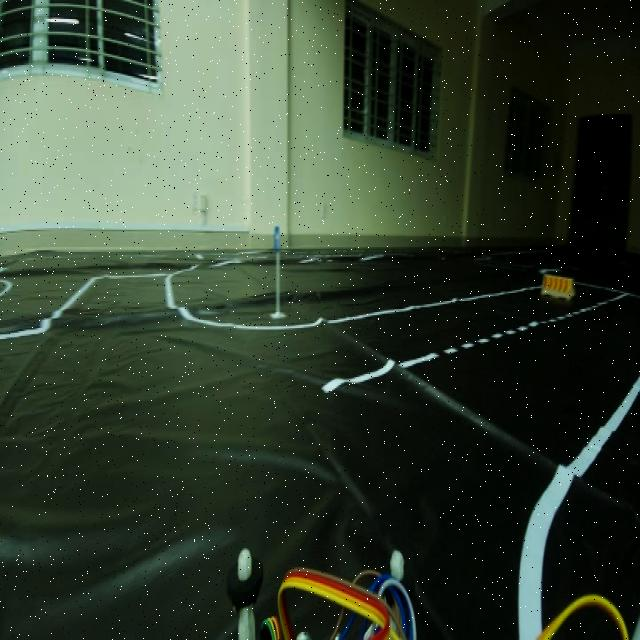onewayroad: (272, 217, 279, 255)
